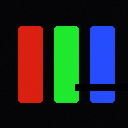3 line_h: (75, 84, 127, 90)
